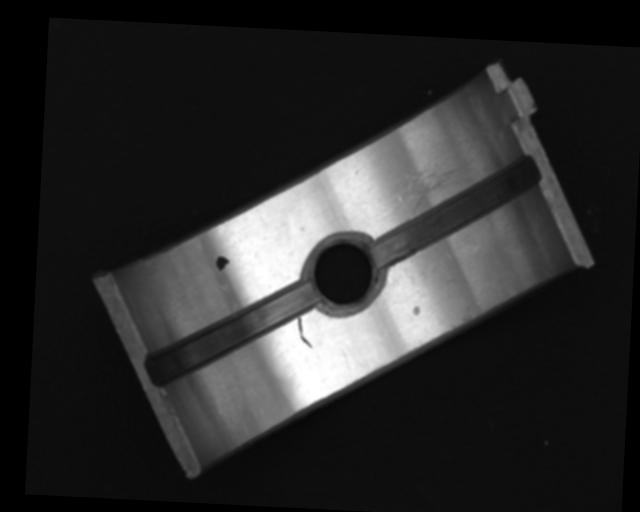blot: (214, 256, 231, 274)
bruise: (412, 303, 421, 316)
gap: (371, 149, 540, 275), (147, 276, 310, 391)
hole: (303, 235, 384, 315)
nick: (295, 315, 314, 348)
scratch: (398, 153, 477, 221)
